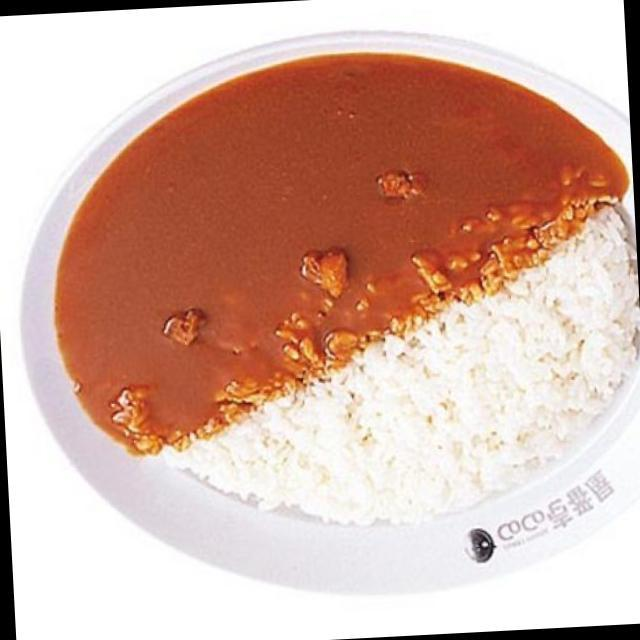Beef Curry: (65, 57, 600, 429)
Rice: (190, 239, 640, 553)
